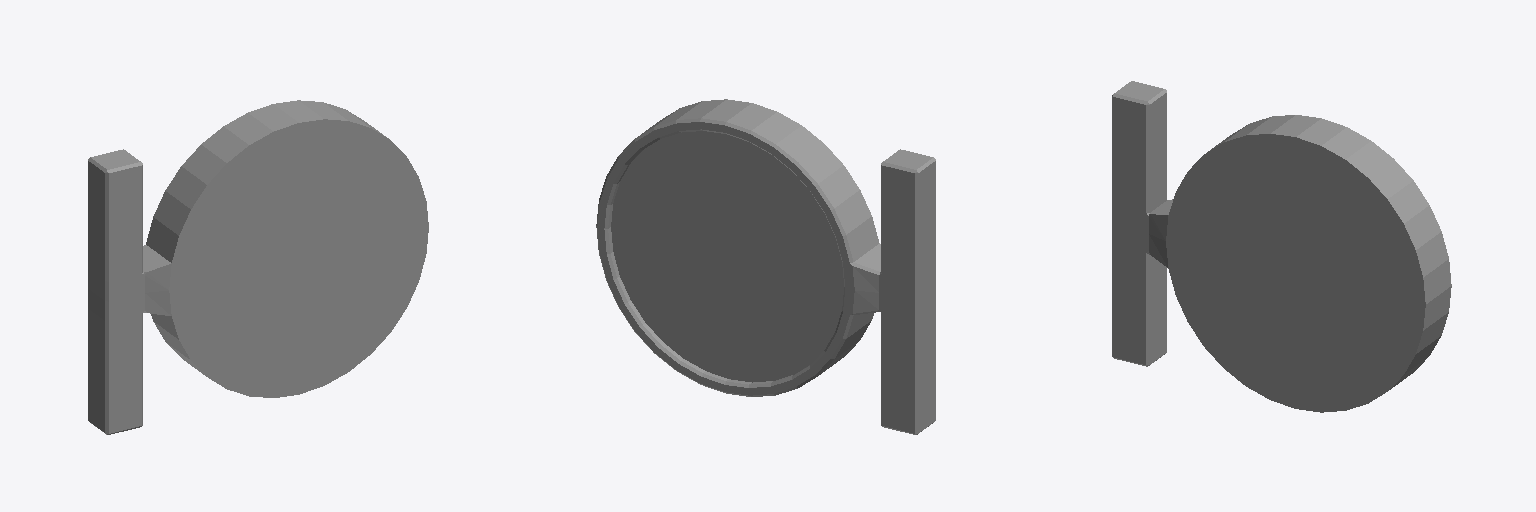
Rendered from VDIalIndicator.obj.
The picture shows the model from 3 angles: view 1: azimuth 30°, elevation 25°; view 2: azimuth 150°, elevation 25°; view 3: azimuth 330°, elevation 25°; orthographic projection.
Parts seen in each view (by area): view 1: Plane; view 2: Circle, Plane; view 3: Plane.
Part boxes in pixels (bbox=[...]): Plane: bbox=[88, 100, 428, 434]; Circle: bbox=[611, 131, 843, 382]; Plane: bbox=[596, 99, 935, 434]; Plane: bbox=[1112, 81, 1451, 412].
Size of the model in its own units: 0.0675 by 0.055 by 0.01.